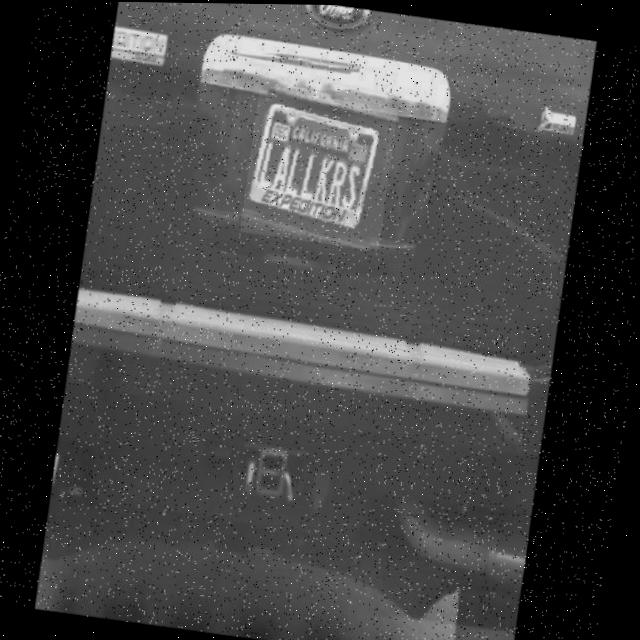LicensePlate: (240, 88, 398, 250)
